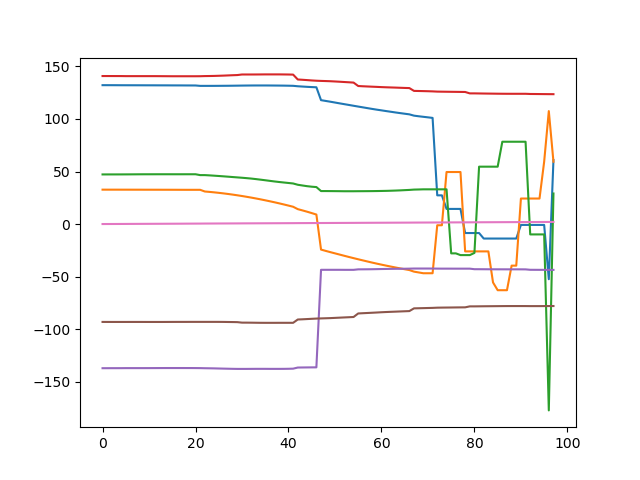Good_Bicep_Curl: (2, 2, 640, 480)
